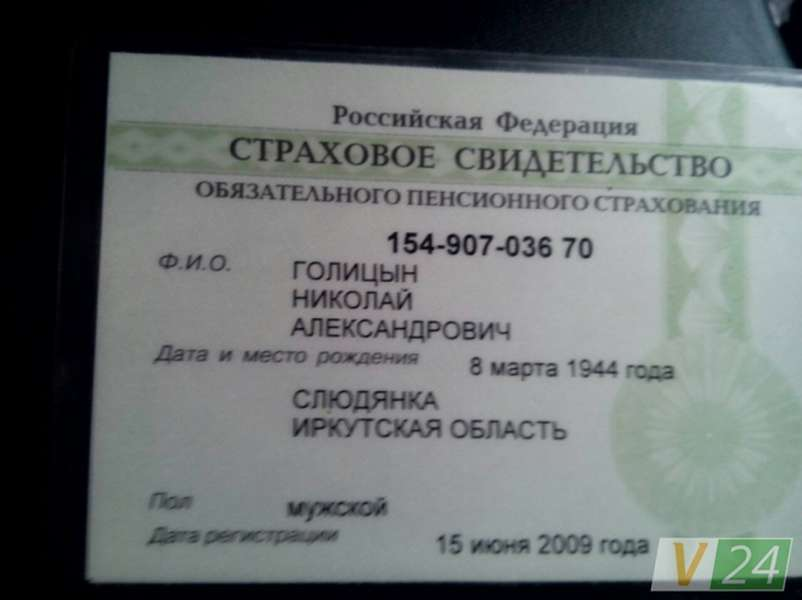text: (288, 384, 572, 447), (379, 225, 596, 262), (468, 352, 681, 389), (429, 528, 652, 561), (285, 316, 514, 345), (286, 254, 425, 285), (283, 285, 422, 316), (281, 492, 392, 521)
